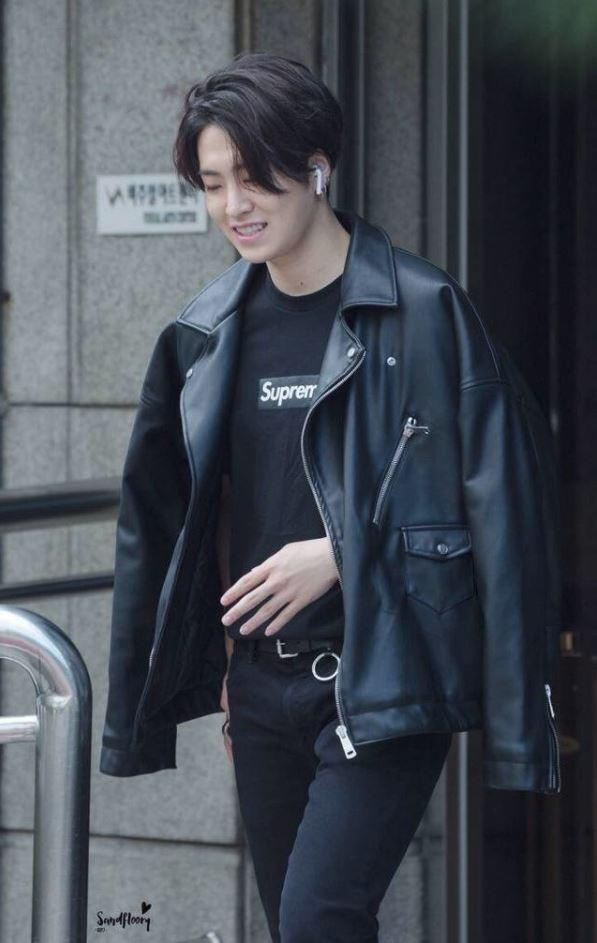earphone: (306, 160, 325, 204)
